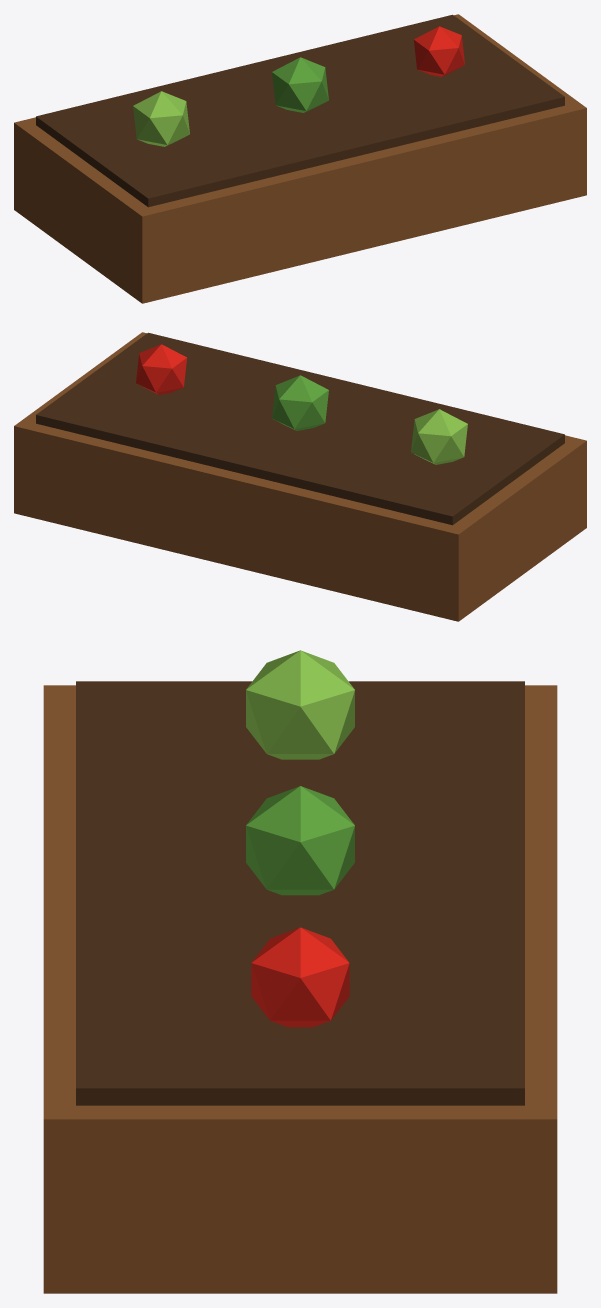
Rendered from patio_raised_bed.glb.
3 views of the same model, one above another, from view 1: azimuth 30°, elevation 25°; view 2: azimuth 150°, elevation 25°; view 3: azimuth 270°, elevation 25° (orthographic). The views are drawn at different scales.
Parts seen in each view (by area): view 1: raised_bed; view 2: raised_bed; view 3: raised_bed.
Boxes of the visible parts, x1,y1,x2,y2 form: raised_bed: [14, 14, 586, 303]; raised_bed: [14, 332, 586, 621]; raised_bed: [43, 650, 557, 1293].
Size of the model in its own units: 1.6 by 0.5 by 0.8.
